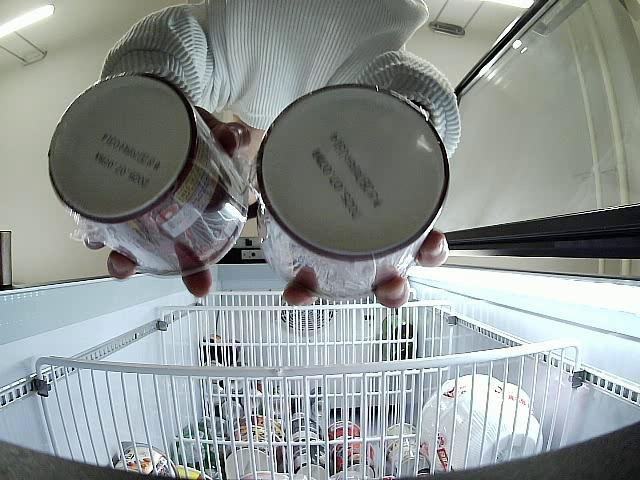00_hand: (84, 106, 251, 296), (284, 228, 450, 309)
06_nuguri_S: (256, 84, 450, 299), (48, 71, 248, 275)
